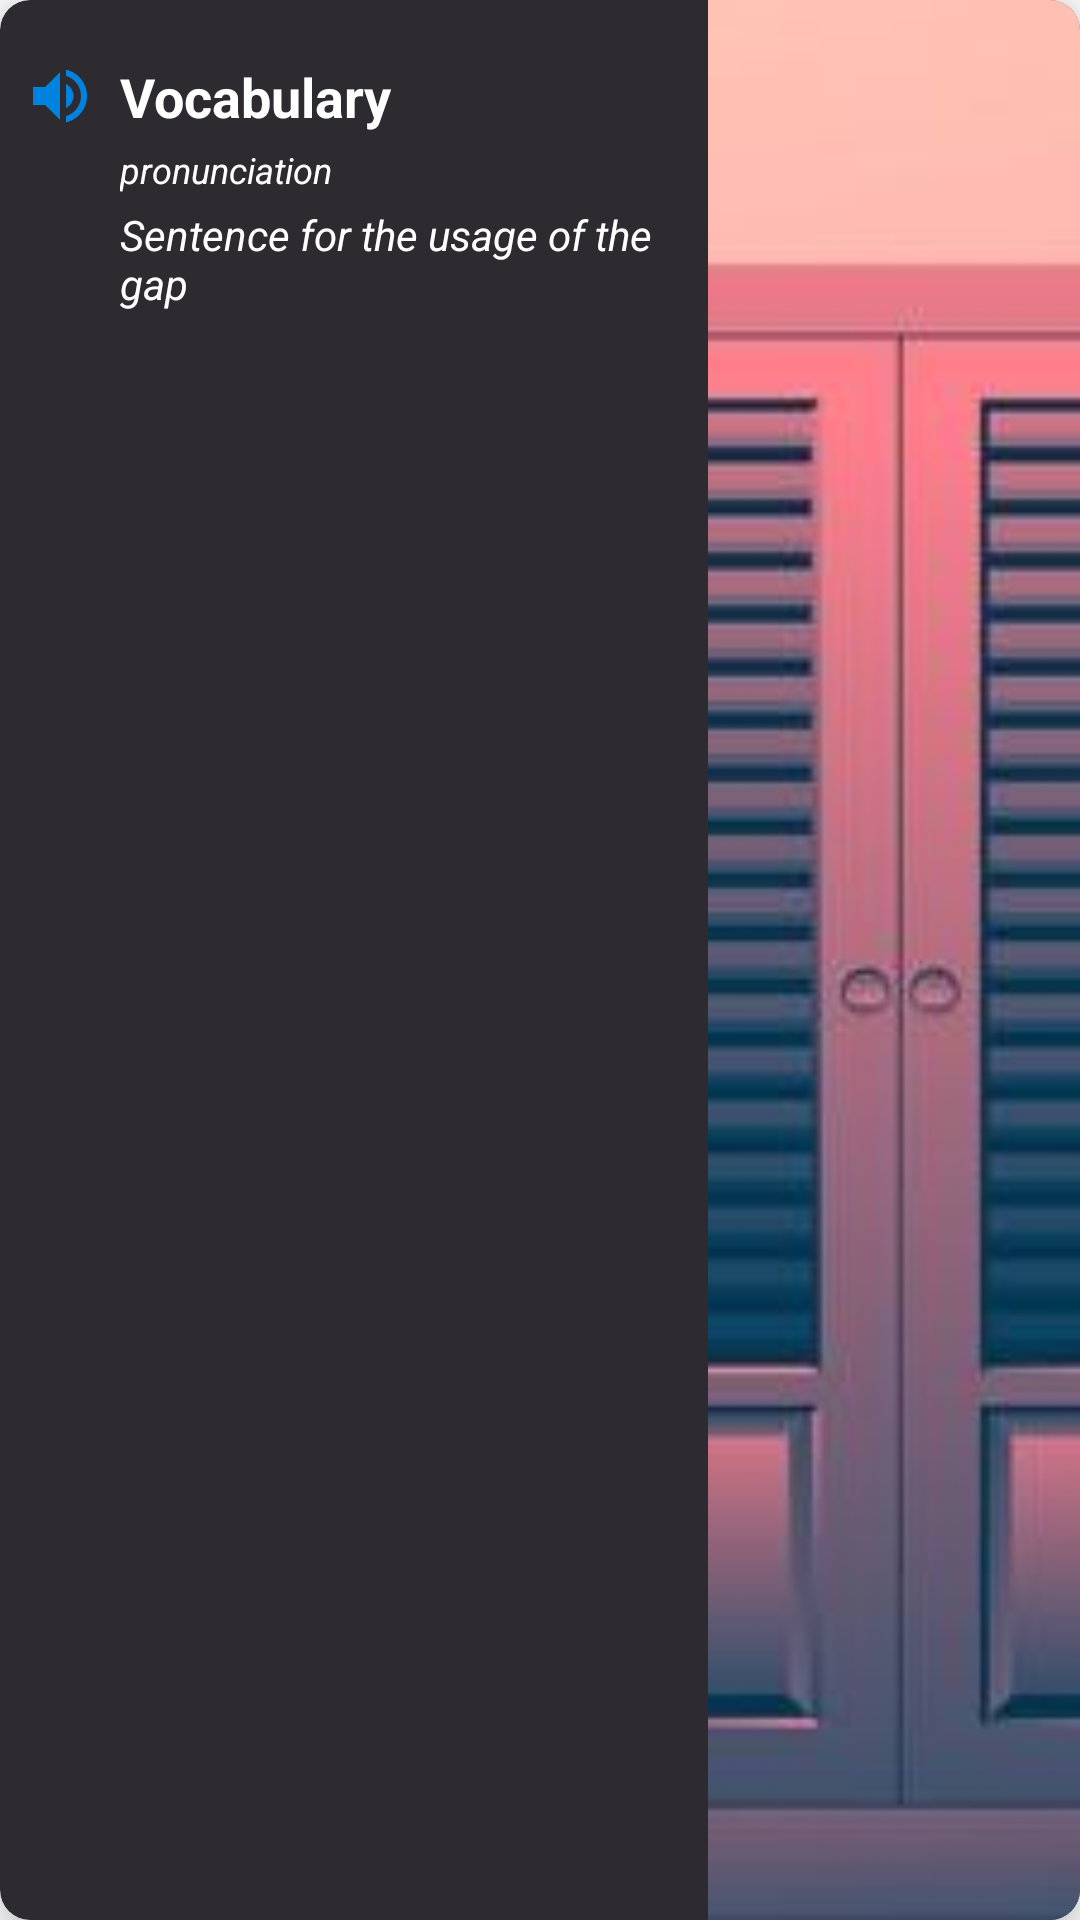

Icons on this 1080px x 1920px Android screen, each with its box as (x1, y1, x2, y2):
volume up: (33, 69, 87, 123)
